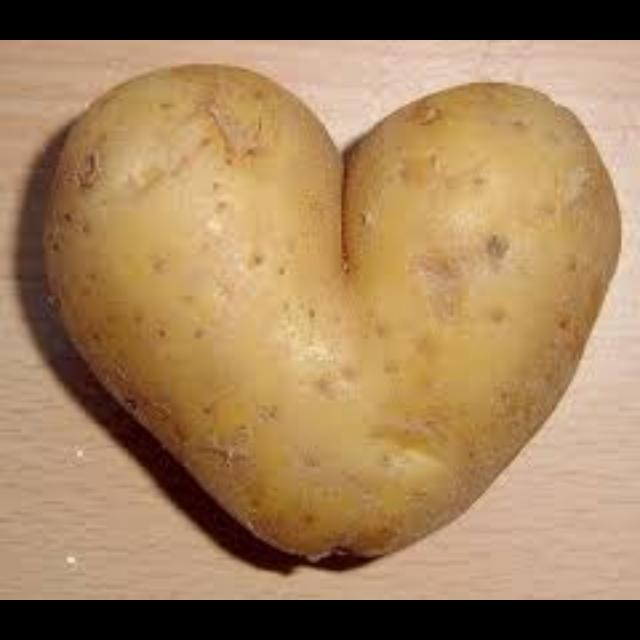Damaged potato: (33, 54, 600, 576)
